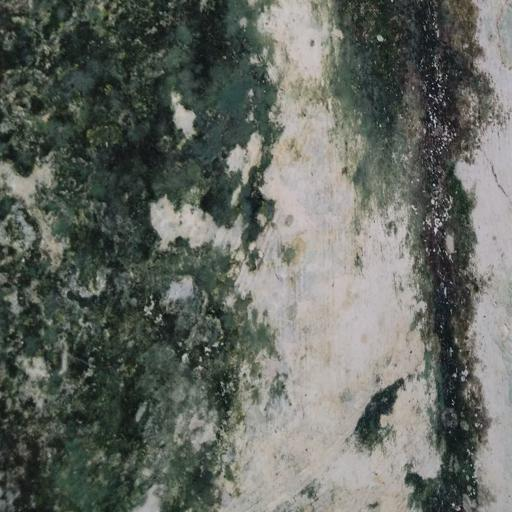algae: (0, 1, 326, 504)
